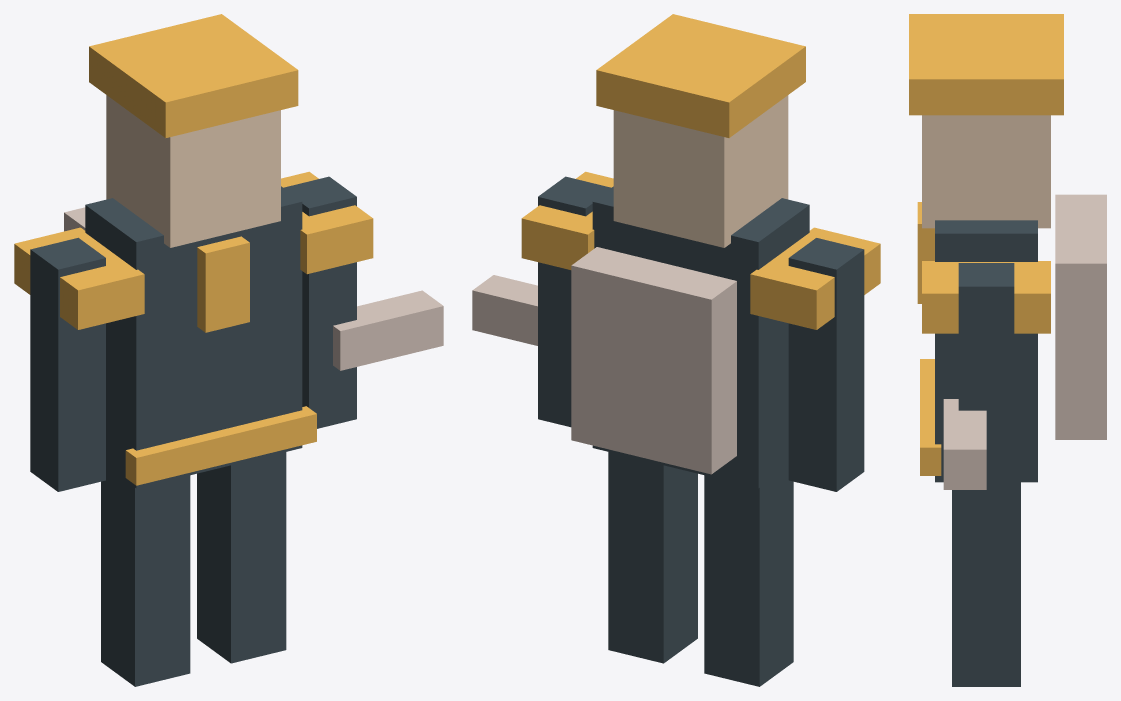
The model's file is 01_maven_gravesong_responder_from_temporal.glb.
3 views of the same model, side by side, from view 1: azimuth 30°, elevation 25°; view 2: azimuth 150°, elevation 25°; view 3: azimuth 270°, elevation 25° (orthographic).
Parts seen in each view (by area): view 1: Maven Gravesong, Responder from Temporal; view 2: Maven Gravesong, Responder from Temporal; view 3: Maven Gravesong, Responder from Temporal.
Boxes of the visible parts, x1,y1,x2,y2 form: Maven Gravesong, Responder from Temporal: [14, 14, 443, 686]; Maven Gravesong, Responder from Temporal: [472, 14, 880, 686]; Maven Gravesong, Responder from Temporal: [909, 14, 1106, 686].
Size of the model in its own units: 1.06 by 1.6 by 0.4767.
